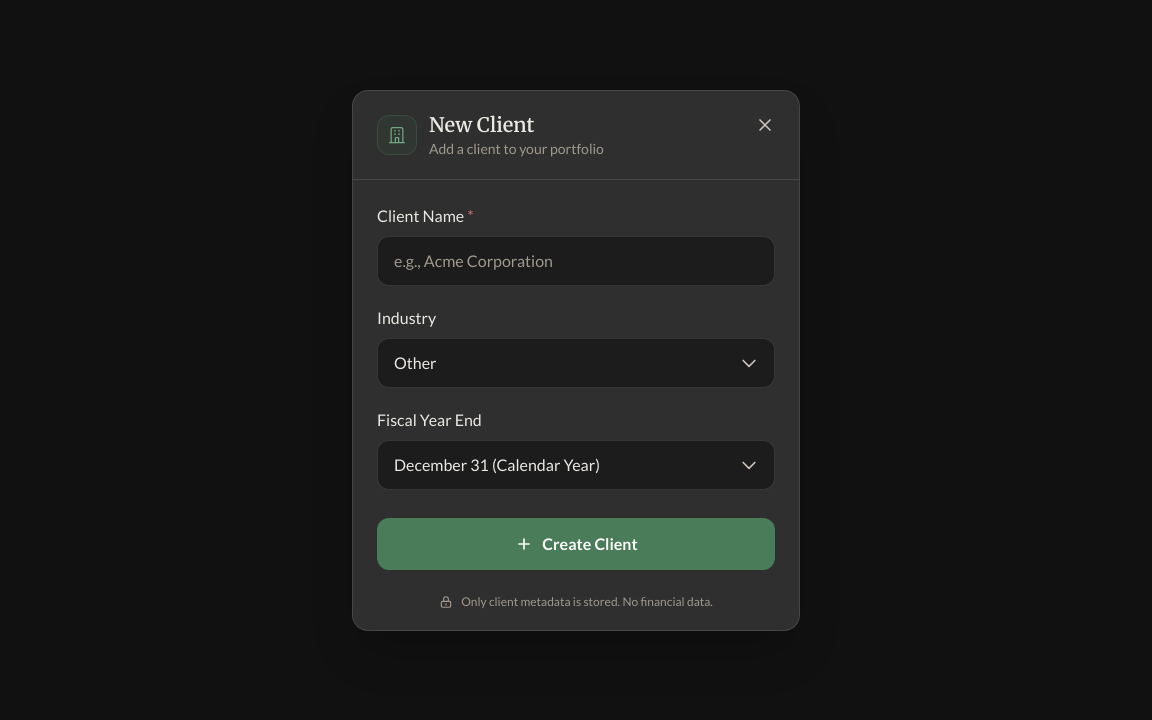
CreateClientModal › shows min length validation error
This screenshot has width=1152, height=720.
Use fireEvent (React 19 compat) — same pattern as fillAndSubmit above
In the field labelled "Client Name *": (576, 260) top-left (377, 236), bottom-right (775, 286), type "A"
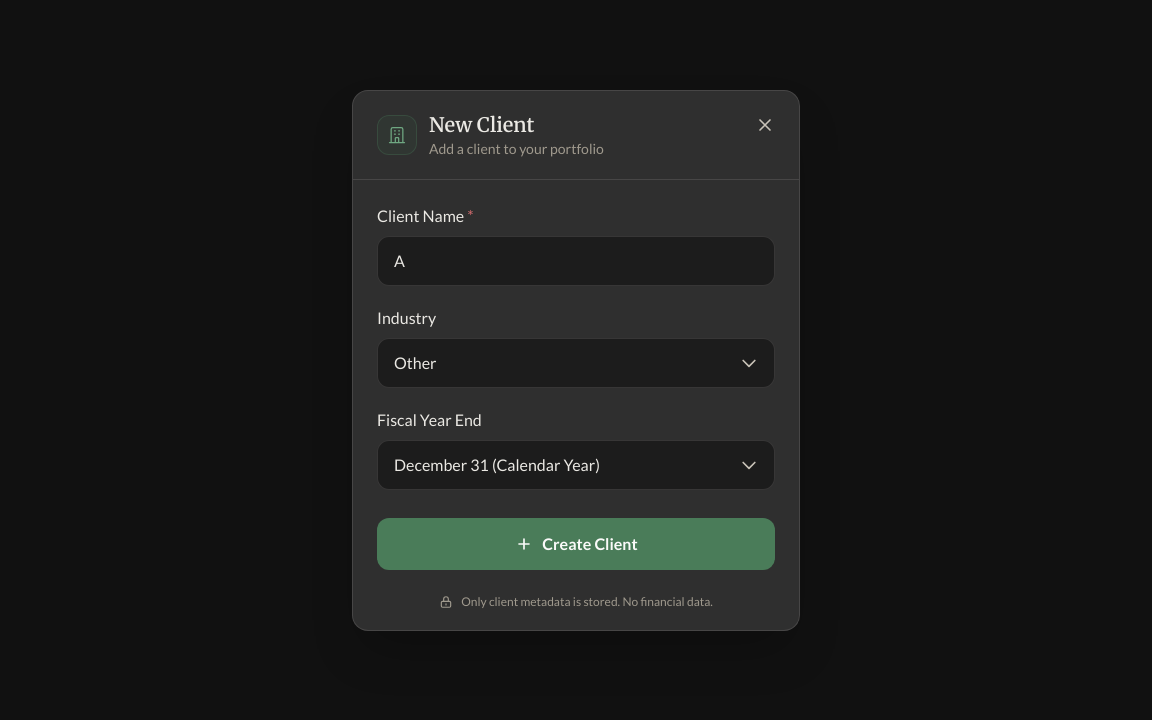
Leave the field labelled "Client Name *", box top-left (377, 236), bottom-right (775, 286)
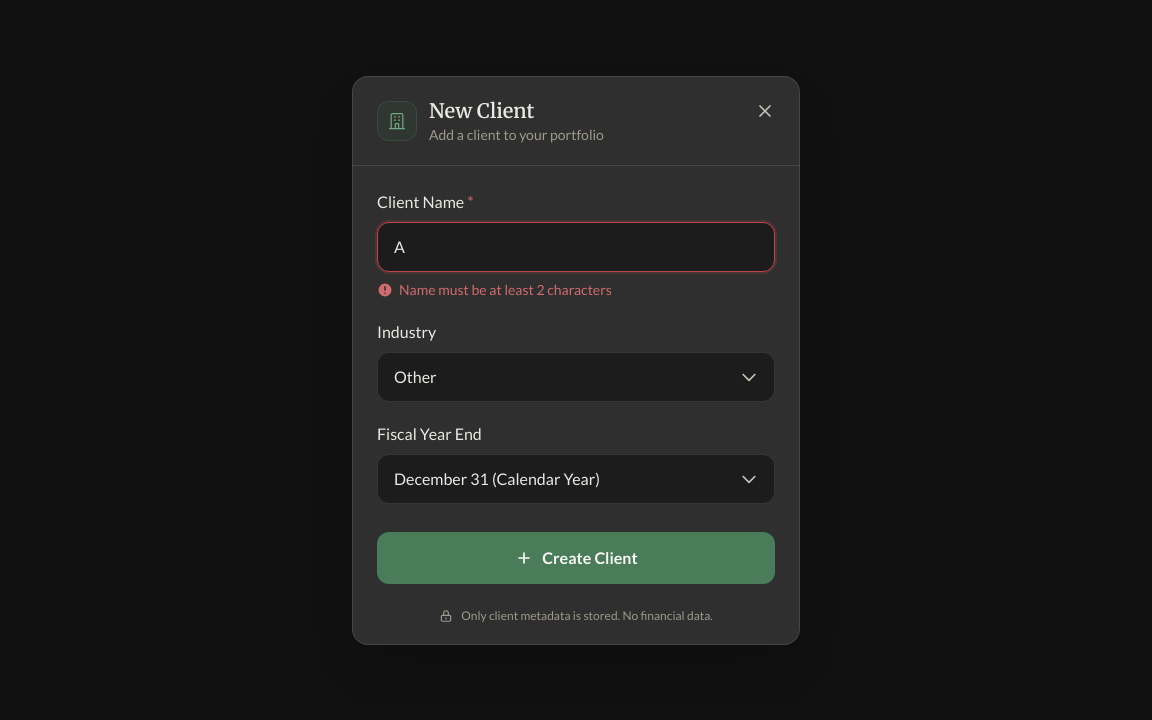
Result: the text "Name must be at least 2 characters" is shown at top-left (377, 280), bottom-right (612, 298)
